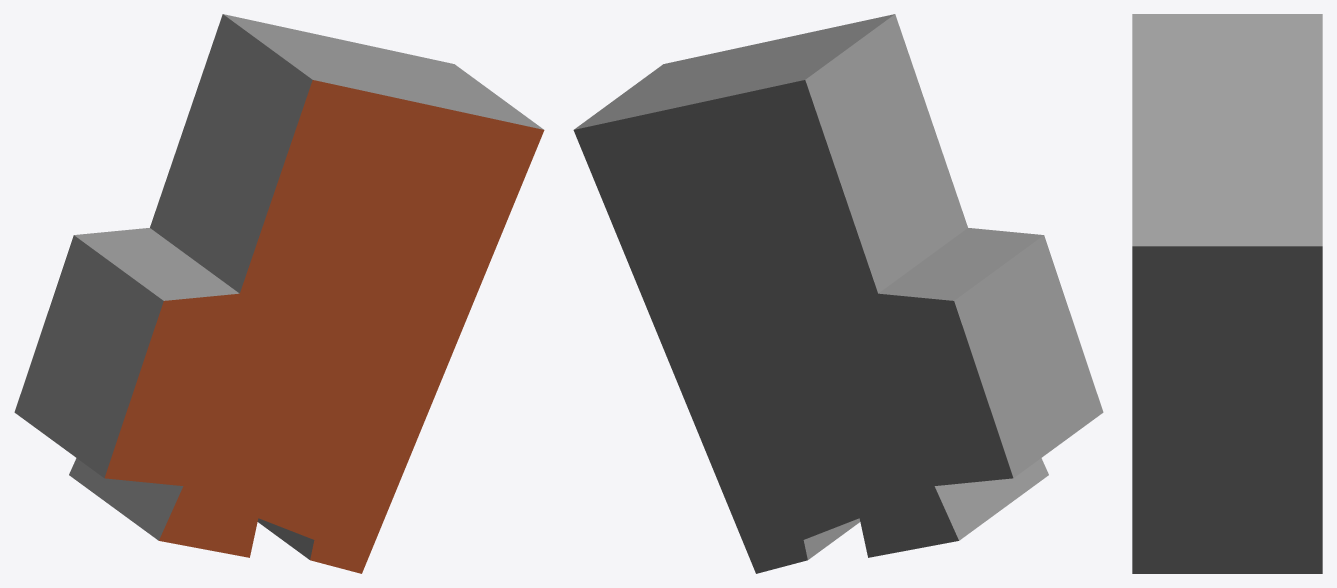
Rendered from construction_4358_assumed_A_Casa_h6m.obj.
3 views of the same model, side by side, from view 1: azimuth 30°, elevation 25°; view 2: azimuth 150°, elevation 25°; view 3: azimuth 270°, elevation 25° (orthographic). The views are drawn at different scales.
Parts seen in each view (by area): view 1: construction_4358_assumed_A_Casa; view 2: construction_4358_assumed_A_Casa; view 3: construction_4358_assumed_A_Casa.
Part boxes in pixels (x1,y1,x2,y2): construction_4358_assumed_A_Casa: (14,14,544,573); construction_4358_assumed_A_Casa: (573,14,1103,573); construction_4358_assumed_A_Casa: (1132,14,1322,573).
Bounding box in the file's own units: 16.94 × 18.62 × 6.
